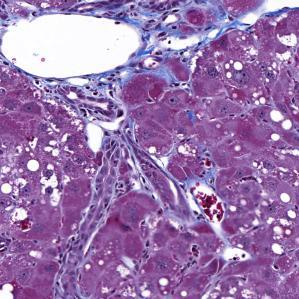fibrosis: (129, 4, 235, 56)
